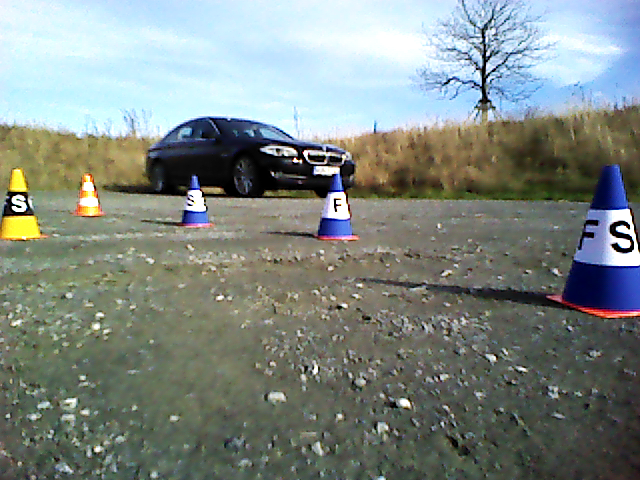bluecone: (566, 166, 640, 307), (318, 175, 351, 235), (182, 175, 209, 223)
orangeconesmall: (75, 173, 104, 216)
yellowcone: (1, 168, 38, 238)
